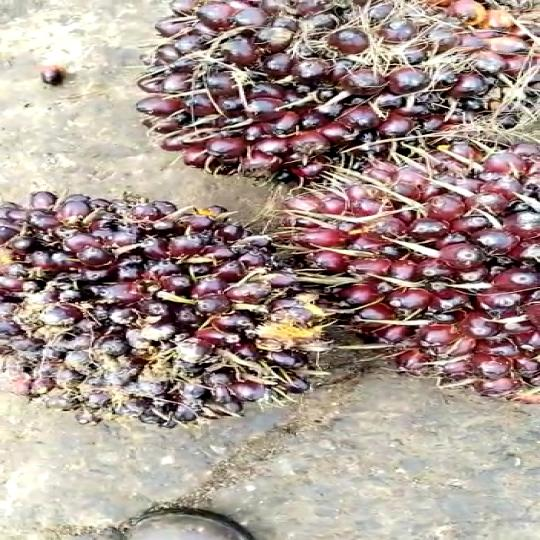kurang masak: (1, 193, 360, 444), (107, 0, 538, 174), (304, 139, 540, 420)
